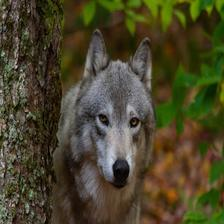WOLF: (66, 34, 158, 215)
